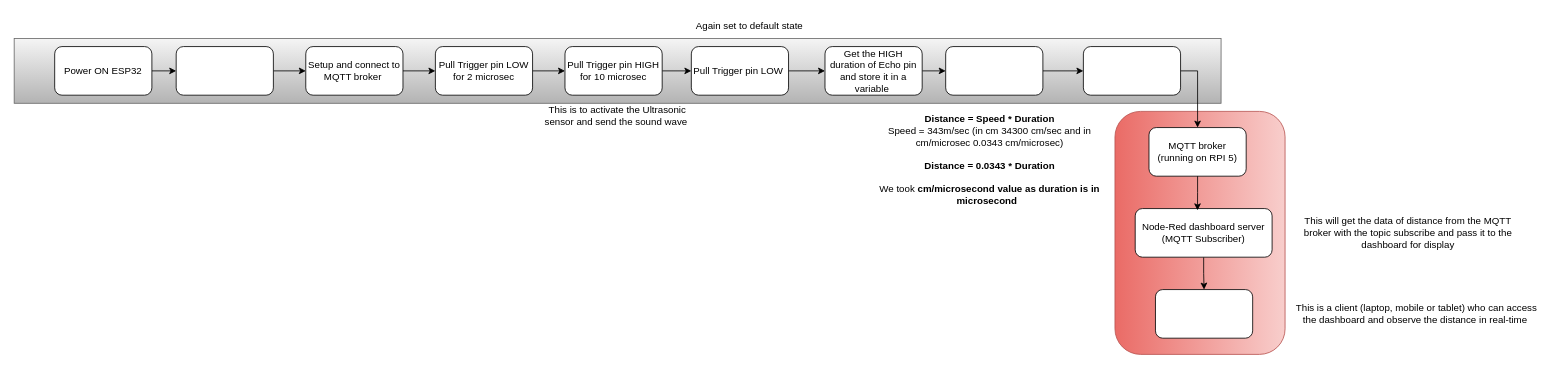
This 1553x369 diagram has some shape labels left out. The shapes that lost their labels are listed below. From the top down, each one's centre as x and y in pixels, then its label:
At pixel 224 70: "Setup and connect to Wi-Fi".
At pixel 994 70: "Calculate the Distance in cm".
At pixel 1132 70: "Publish the distance data via MQTT protocol".
At pixel 1204 313: "Node-Red dashboard client".
